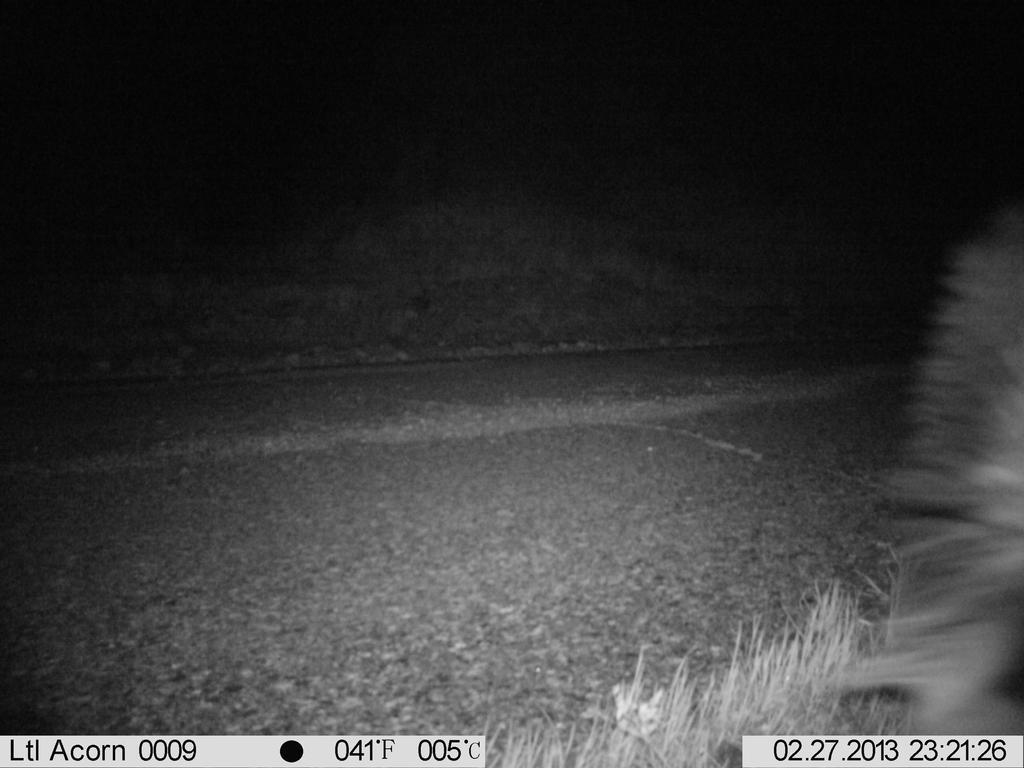skunk: (852, 178, 1023, 727)
